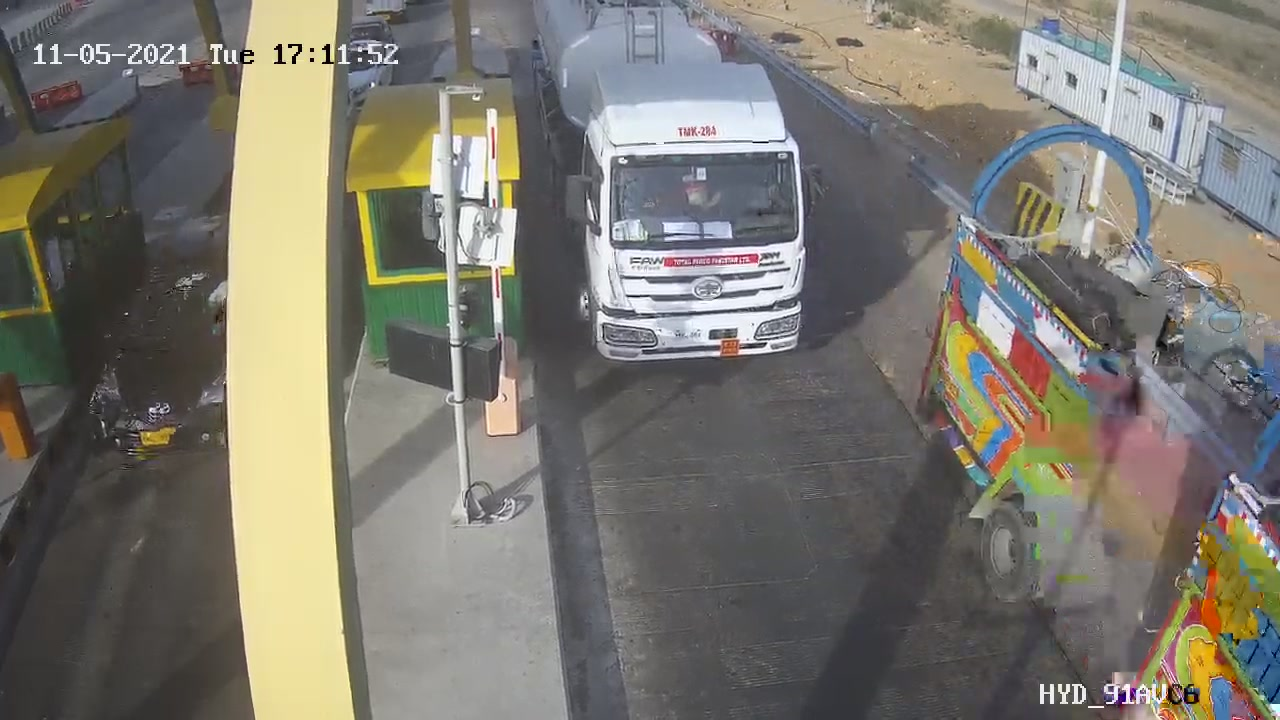F6: (517, 1, 851, 390)
